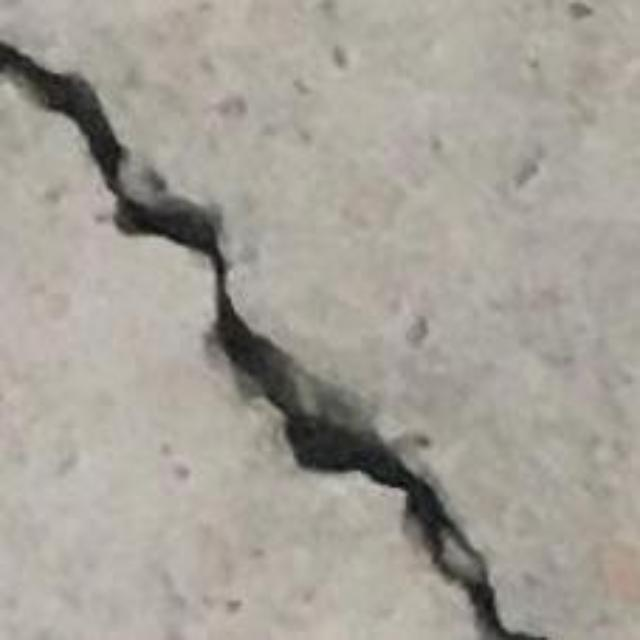crack: (0, 43, 549, 639)
